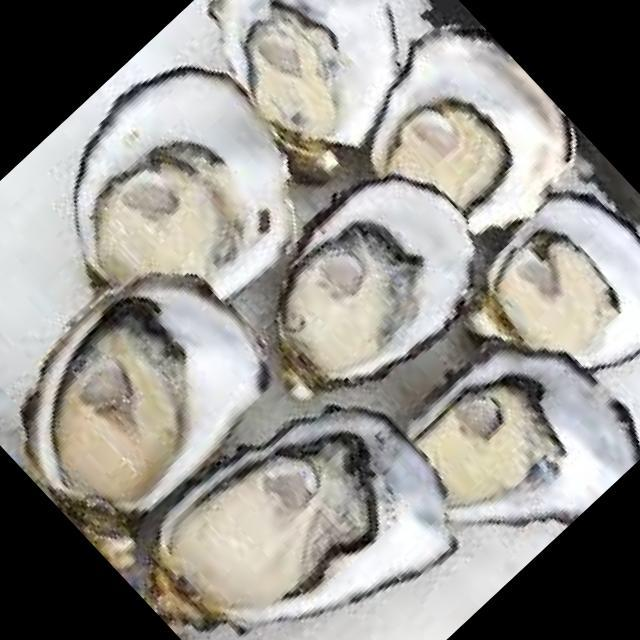Oyster-Open: (107, 375, 473, 640), (0, 234, 297, 551), (345, 7, 602, 258), (63, 63, 319, 313), (240, 160, 503, 403), (218, 0, 397, 179)
